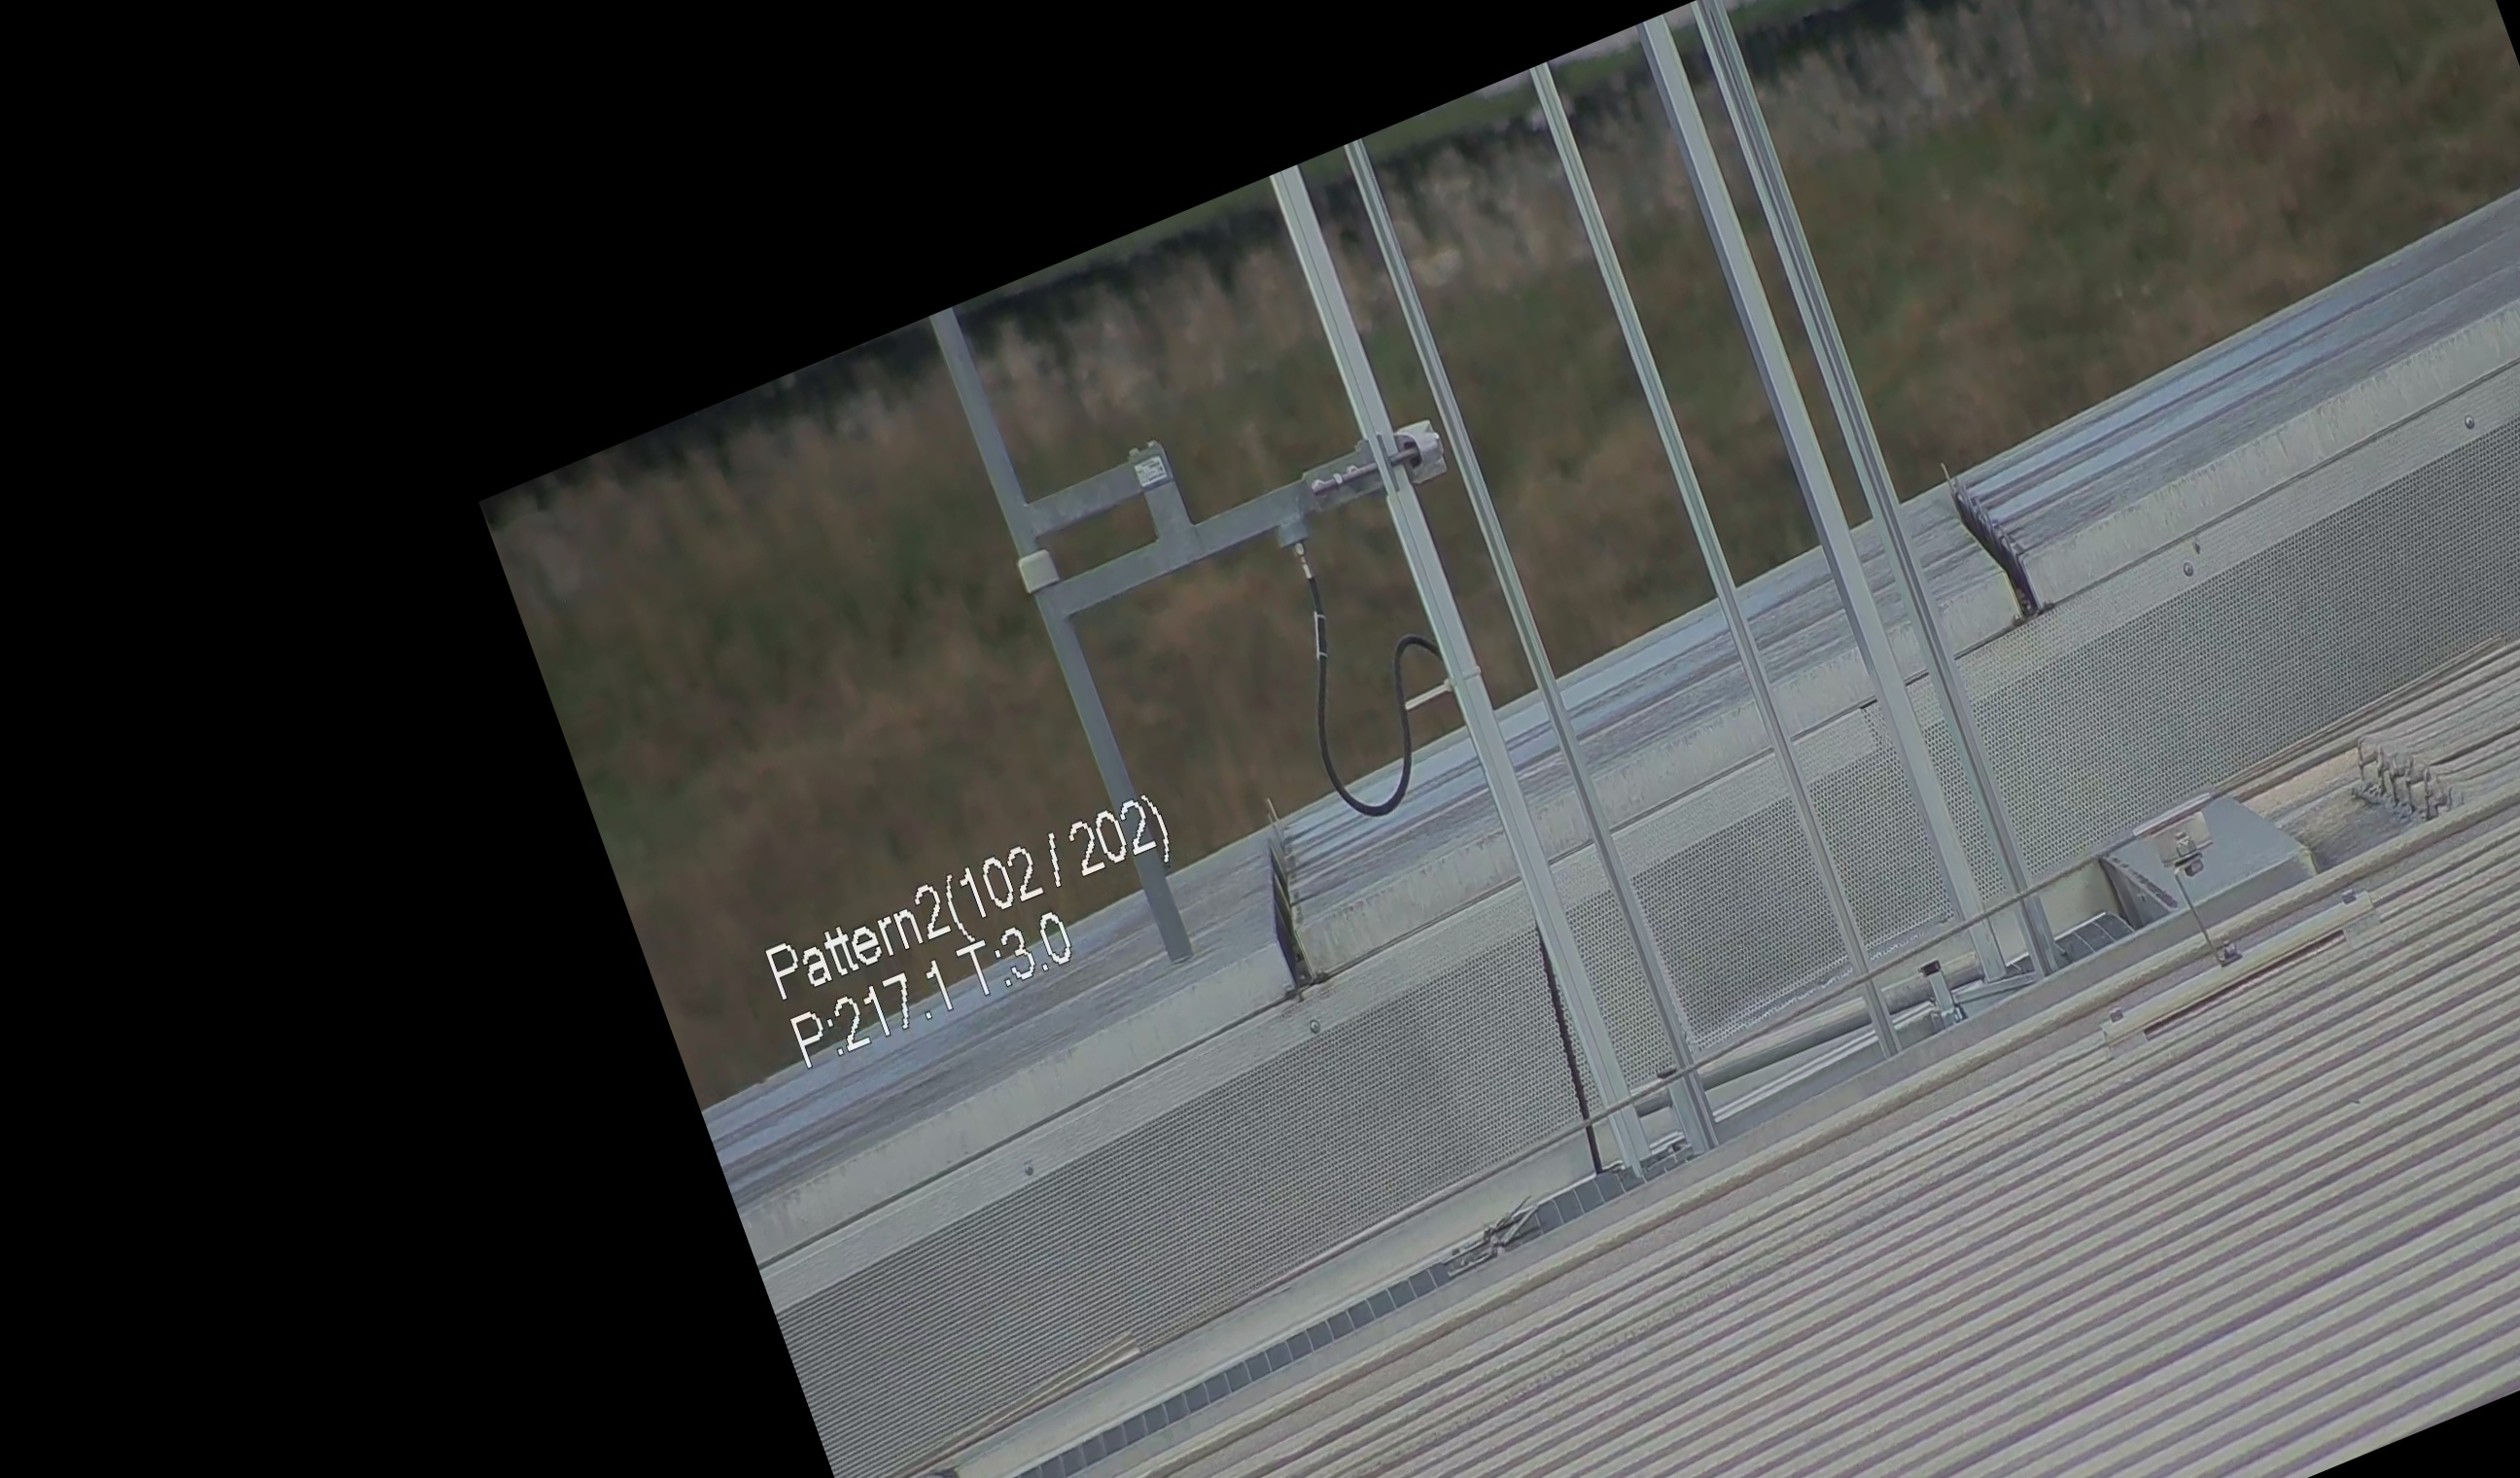Other: (1929, 433, 2063, 644)
